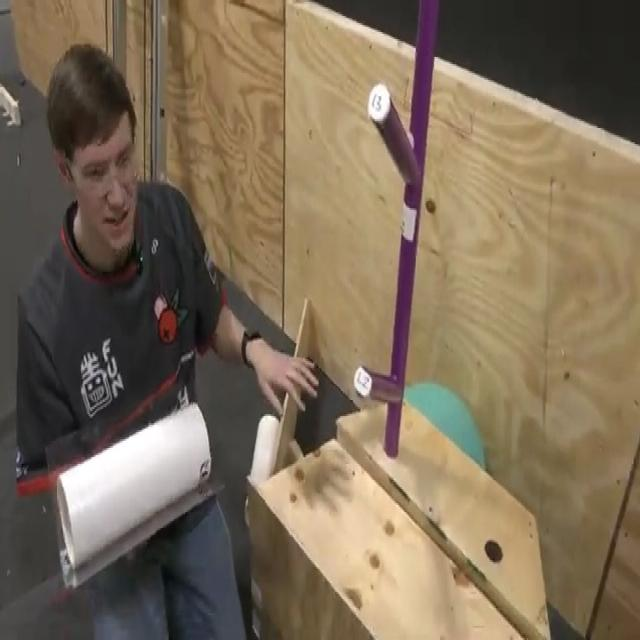Coral: (54, 398, 213, 587)
